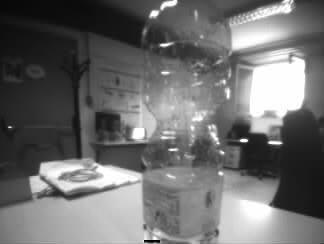Bottle: (141, 1, 231, 242)
